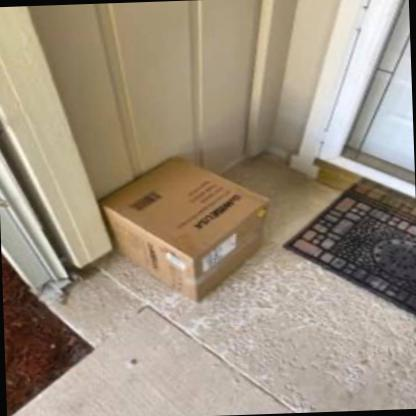box: (96, 156, 272, 304)
